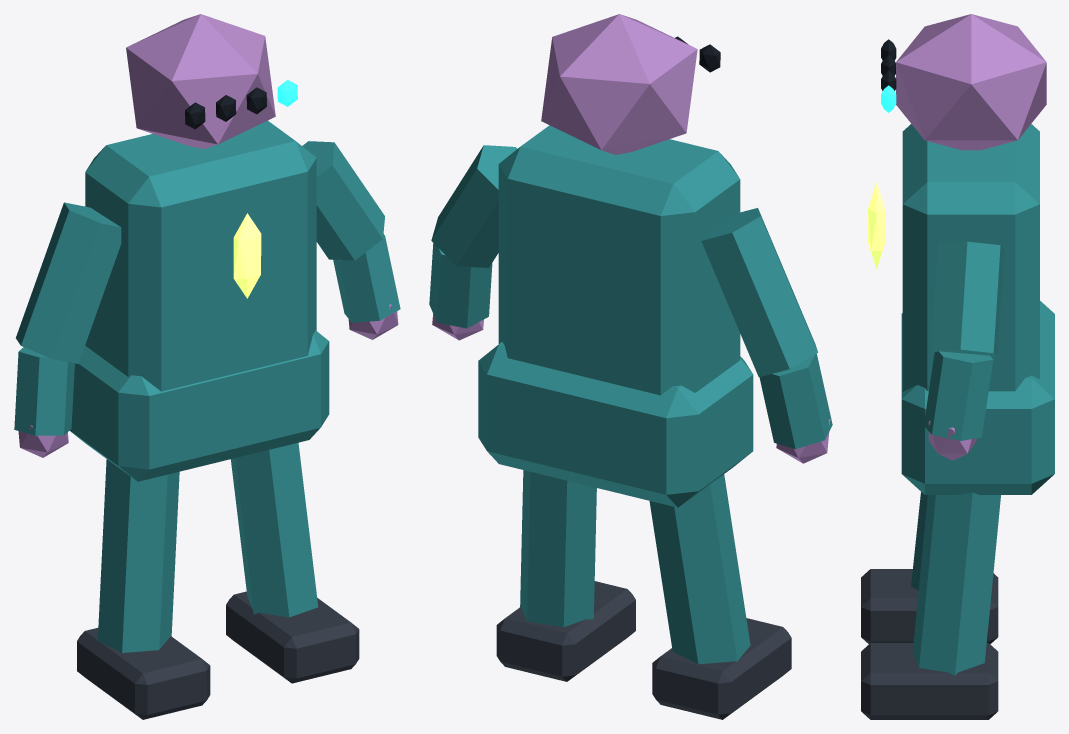
File: npcs_017_seed11.glb
3 views of the same model, side by side, from view 1: azimuth 30°, elevation 25°; view 2: azimuth 150°, elevation 25°; view 3: azimuth 270°, elevation 25° (orthographic). The views are drawn at different scales.
Visible parts, largest first — view 1: npcs_017_seed11; view 2: npcs_017_seed11; view 3: npcs_017_seed11.
Part boxes in pixels (x1,y1,x2,y2): npcs_017_seed11: [14, 14, 400, 719]; npcs_017_seed11: [429, 14, 832, 719]; npcs_017_seed11: [861, 14, 1054, 719].
Size of the model in its own units: 0.9626 by 1.56 by 0.4184.
